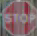Stop: (1, 6, 36, 31)
